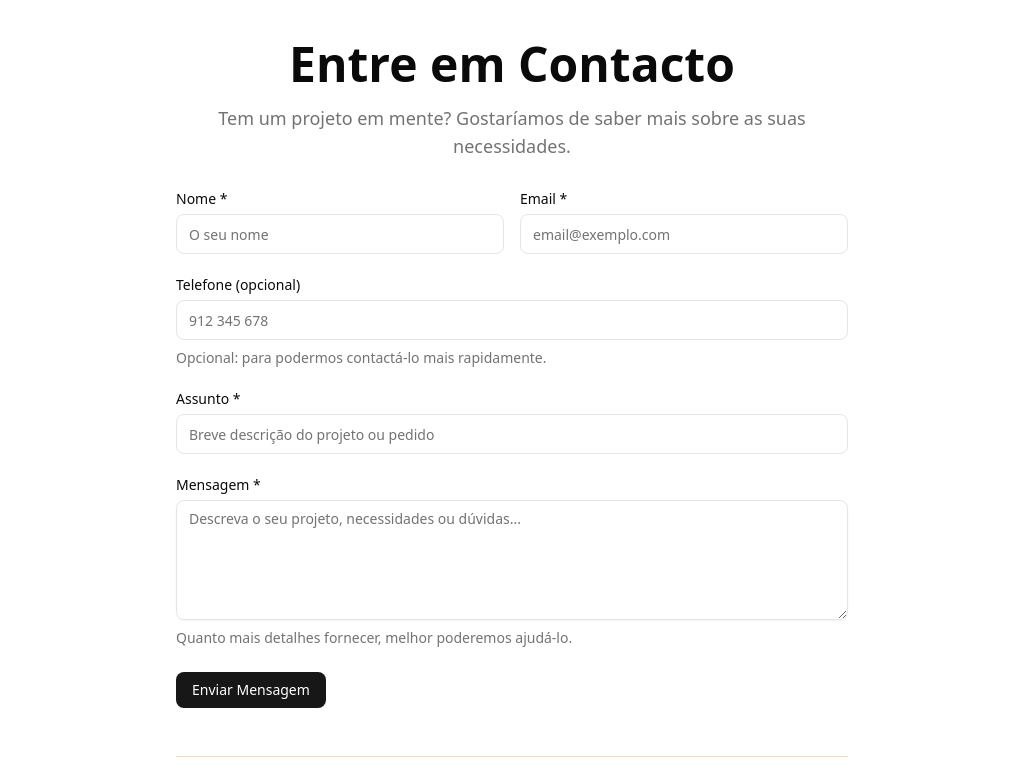
Test: ContactPage › Form submission › shows error dialog when submission fails
The image size is (1024, 768).
In the field labelled "Nome *": (340, 234) 176,214 -> 504,254, type "João Silva"
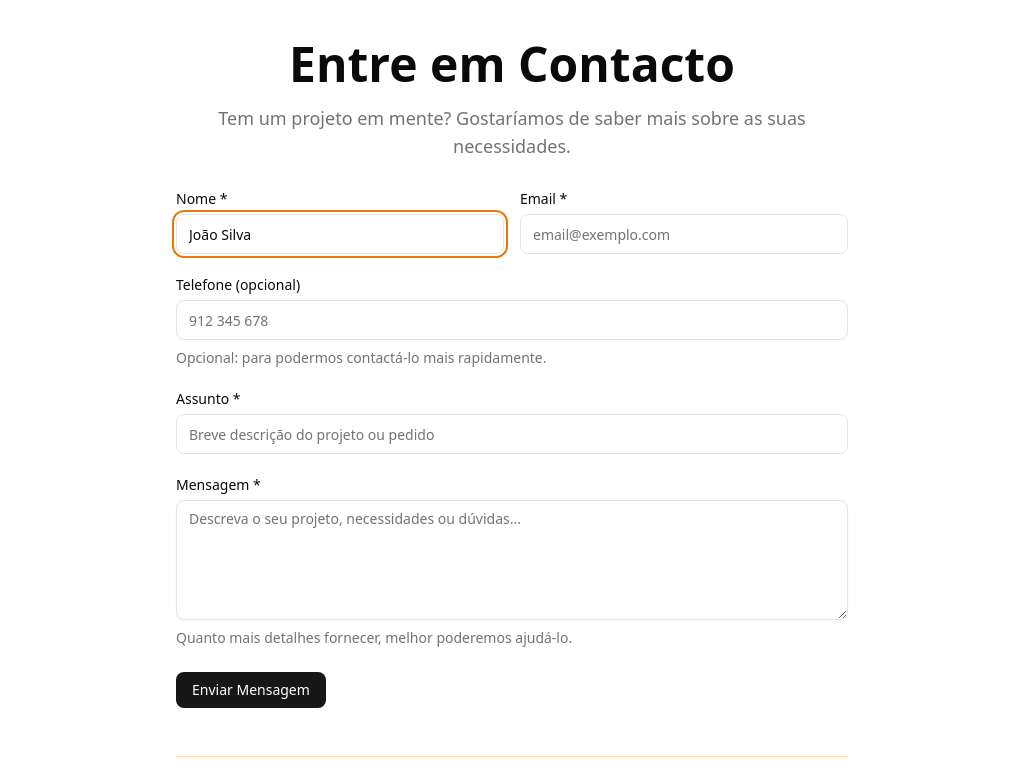
In the field labelled "Email *": (684, 234) 520,214 -> 848,254, type "joao@teste.pt"
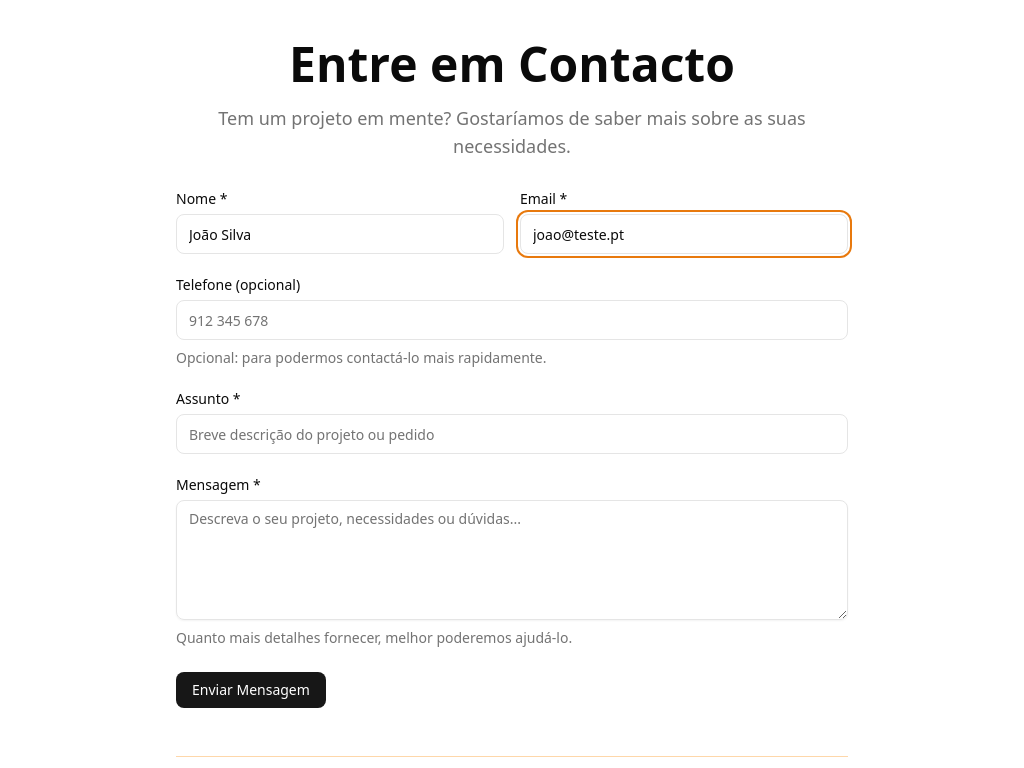
In the field labelled "Assunto *": (512, 434) 176,414 -> 848,454, type "Orçamento ETICS"
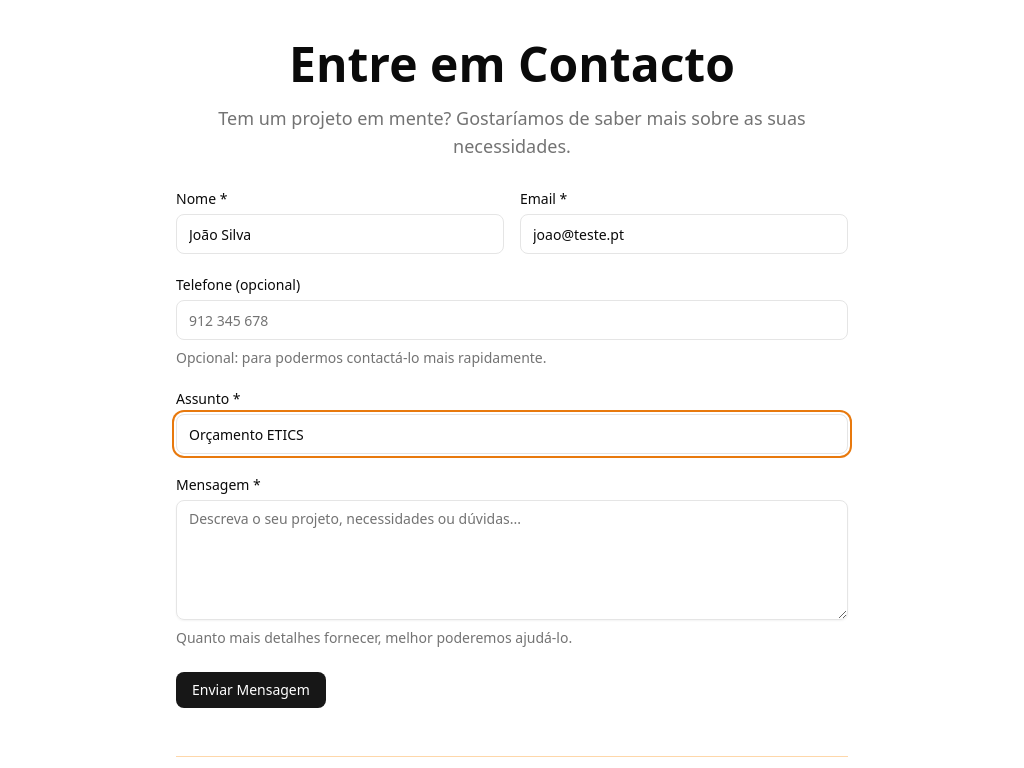
In the text box labelled "Mensagem *": (512, 560) 176,500 -> 848,620, type "Gostaria de pedir um orçamento para a minha moradia."
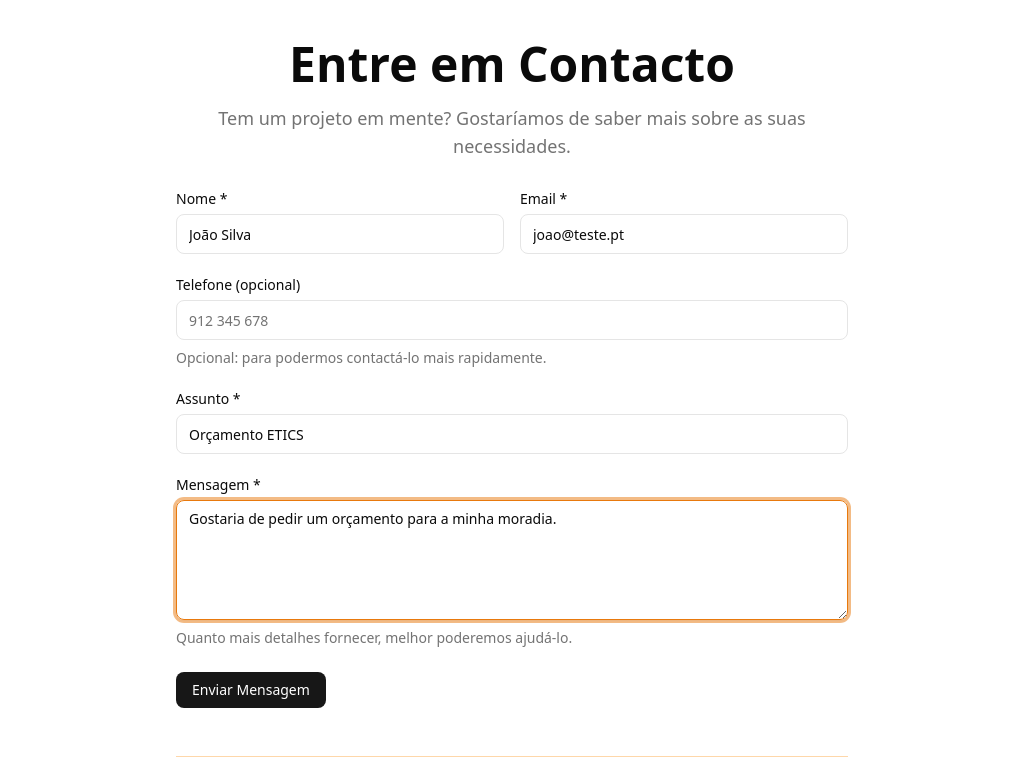
Click the button "Enviar Mensagem": (251, 690) 176,672 -> 326,708
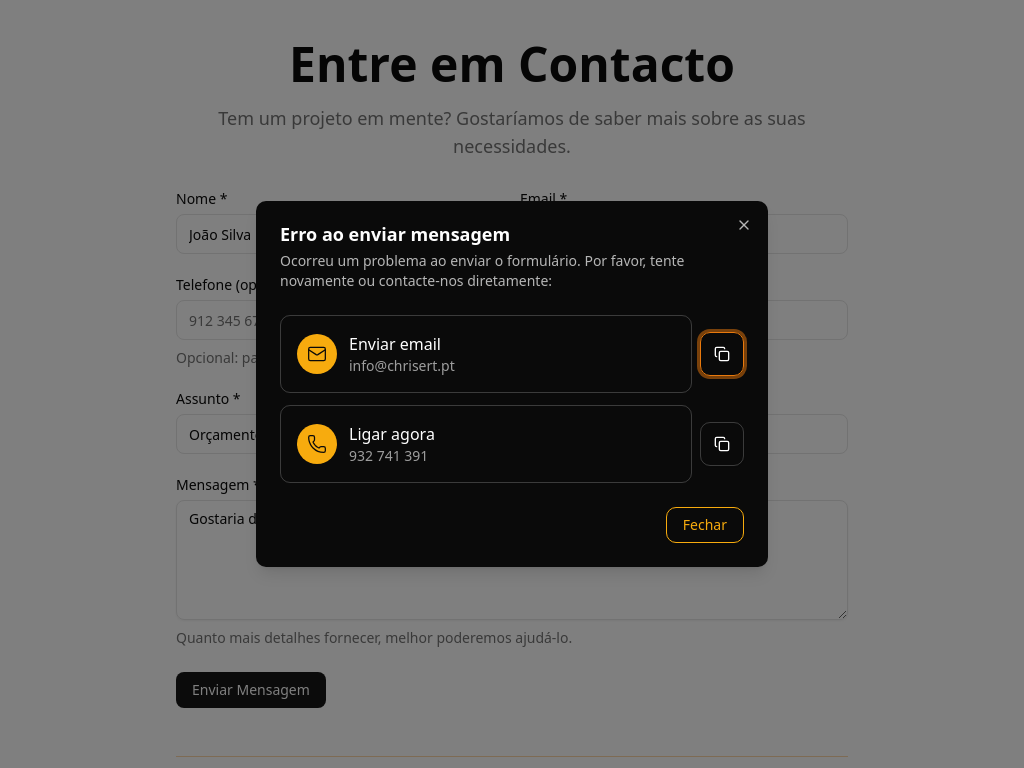
Result: the heading "Erro ao enviar mensagem" is shown at 280,222 -> 510,246
